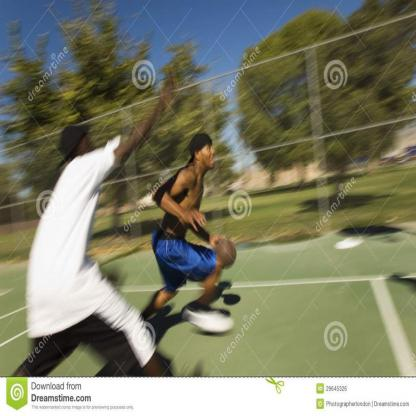face: (81, 137, 95, 166), (203, 150, 216, 170)
